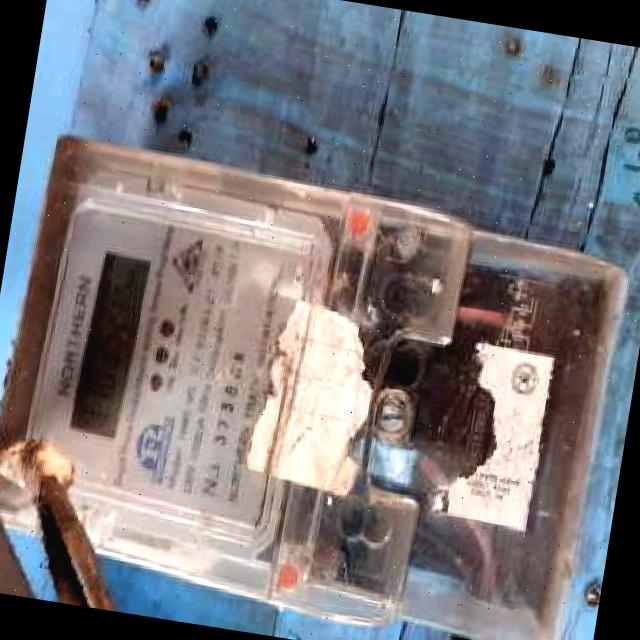LCD: (63, 241, 160, 444)
